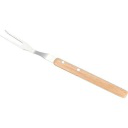fork: (1, 26, 128, 99)
